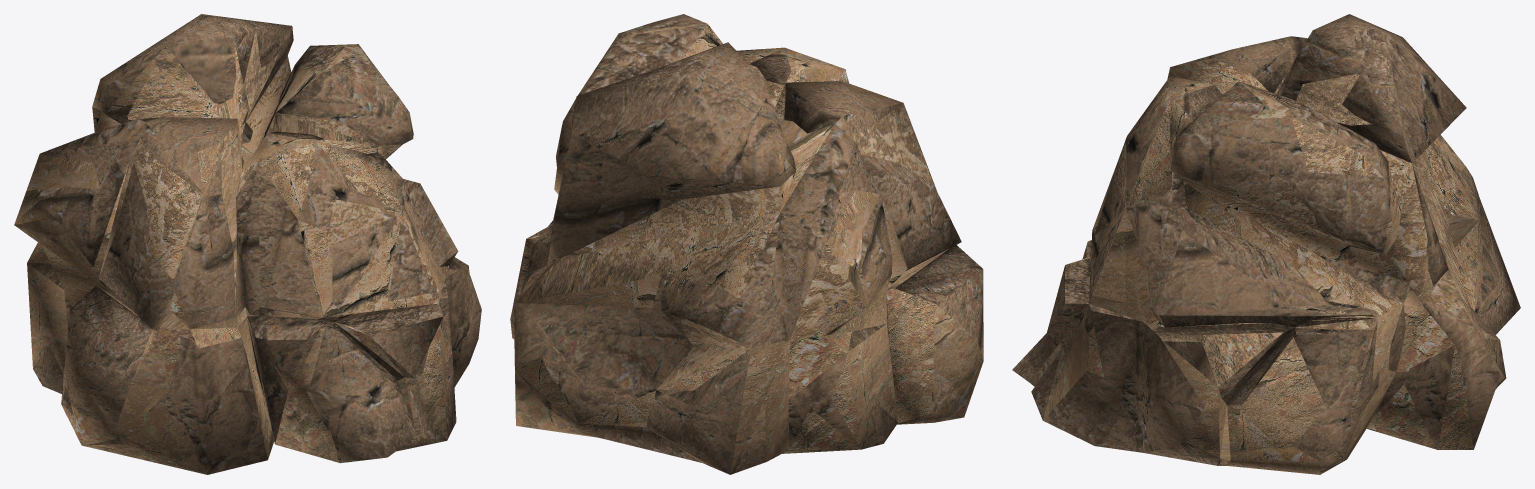
File: AfricaRock_02.DAE
3 views of the same model, side by side, from view 1: azimuth 30°, elevation 25°; view 2: azimuth 150°, elevation 25°; view 3: azimuth 270°, elevation 25° (orthographic). The views are drawn at different scales.
Visible parts, largest first — view 1: AfricaRockTwo256, AfricaRockTwo128, AfricaRockTwo64; view 2: AfricaRockTwo256, AfricaRockTwo128, AfricaRockTwo64; view 3: AfricaRockTwo256, AfricaRockTwo128, AfricaRockTwo64.
Part boxes in pixels (x1,y1,x2,y2): AfricaRockTwo256: (14,14,481,474); AfricaRockTwo128: (14,30,469,459); AfricaRockTwo64: (14,37,448,474); AfricaRockTwo256: (510,14,983,474); AfricaRockTwo128: (512,24,976,474); AfricaRockTwo64: (513,47,983,473); AfricaRockTwo256: (1012,14,1520,472); AfricaRockTwo128: (1043,59,1515,474); AfricaRockTwo64: (1043,38,1505,458).
Size of what is drawn, in the model's own units: 13.31 by 14.04 by 11.5.
